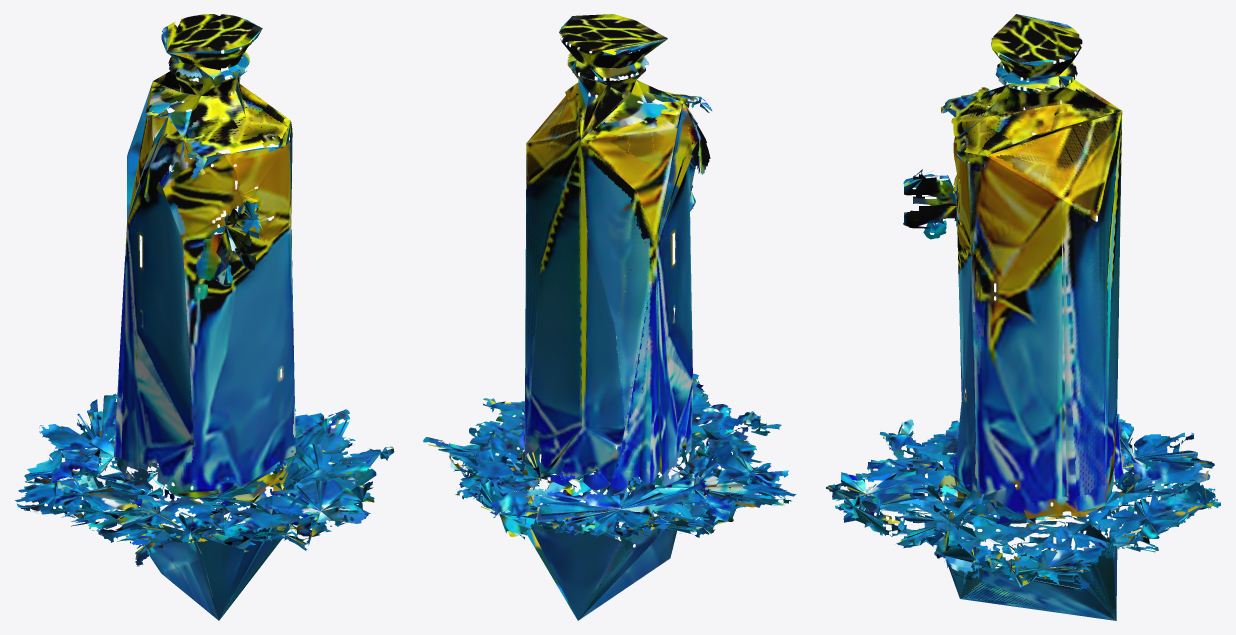
File: HolyWater.glb
The picture shows the model from 3 angles, left to right: view 1: azimuth 30°, elevation 25°; view 2: azimuth 150°, elevation 25°; view 3: azimuth 270°, elevation 25°; orthographic projection. The views are drawn at different scales.
Visible parts, largest first — view 1: temp_mesh.ply; view 2: temp_mesh.ply; view 3: temp_mesh.ply.
Part boxes in pixels (x1=…): temp_mesh.ply: x1=15, y1=14, x2=394, y2=620; temp_mesh.ply: x1=423, y1=14, x2=796, y2=620; temp_mesh.ply: x1=826, y1=14, x2=1220, y2=620.
Size of the model in its own units: 0.1181 by 0.18 by 0.1105.
Materials: 1 (1 with a texture image).
